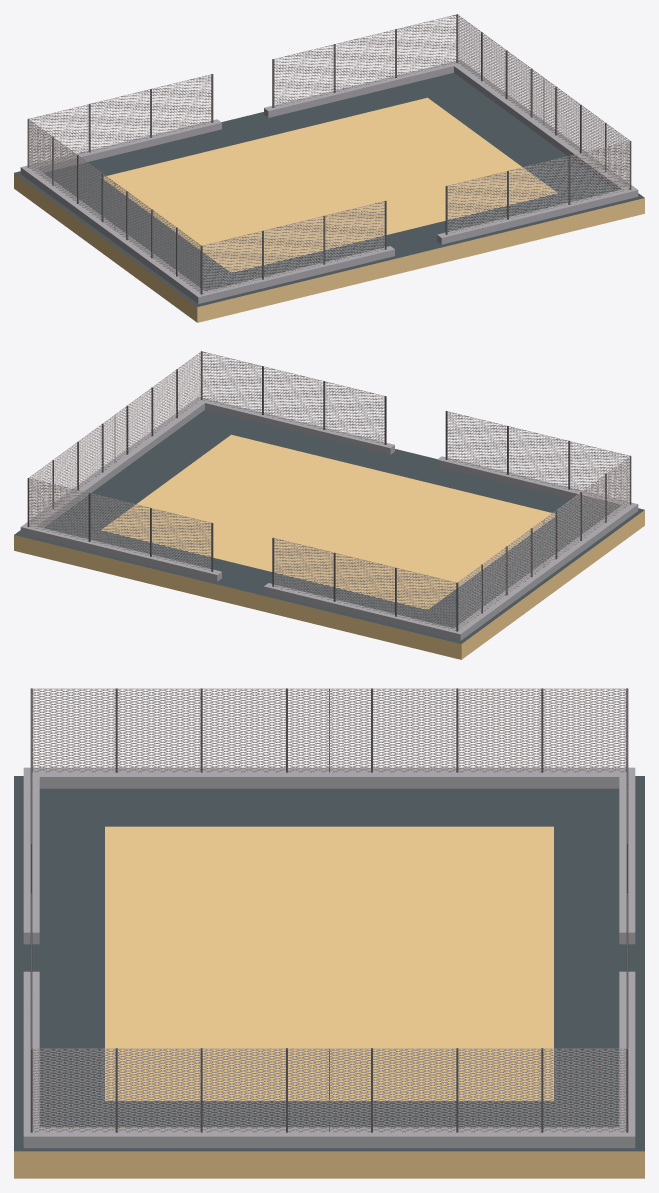
File: fullbase.fbx
The picture shows the model from 3 angles, top to bottom: view 1: azimuth 30°, elevation 25°; view 2: azimuth 150°, elevation 25°; view 3: azimuth 270°, elevation 25°; orthographic projection. The views are drawn at different scales.
Parts seen in each view (by area): view 1: Base.003, Base.036, Base.002, Base.024, Base.006, Base.032, Base.014, Base.012, Base.001; view 2: Base.003, Base.036, Base.024, Base.002, Base.006, Base.014, Base.032, Base.012, Base.001; view 3: Base.003, Base.006, Base.036, Base.012, Base.001.
Boxes of the visible parts, <box> form: Base.003: <box>14,73,644,322</box>; Base.036: <box>27,118,202,294</box>; Base.002: <box>272,14,456,107</box>; Base.024: <box>445,141,629,234</box>; Base.006: <box>456,14,631,189</box>; Base.032: <box>202,200,386,293</box>; Base.014: <box>29,74,213,166</box>; Base.012: <box>20,119,394,303</box>; Base.001: <box>264,60,638,244</box>; Base.003: <box>14,410,644,659</box>; Base.036: <box>456,455,631,631</box>; Base.024: <box>202,351,386,444</box>; Base.002: <box>29,478,213,571</box>; Base.006: <box>27,351,202,526</box>; Base.014: <box>272,537,456,630</box>; Base.032: <box>445,411,629,503</box>; Base.012: <box>264,456,638,640</box>; Base.001: <box>20,397,394,581</box>; Base.003: <box>14,776,644,1178</box>; Base.006: <box>30,1048,628,1132</box>; Base.036: <box>30,688,628,772</box>; Base.012: <box>23,767,635,944</box>; Base.001: <box>23,971,635,1148</box>.
Bounding box in the file's own units: 579 × 87.86 × 411.
